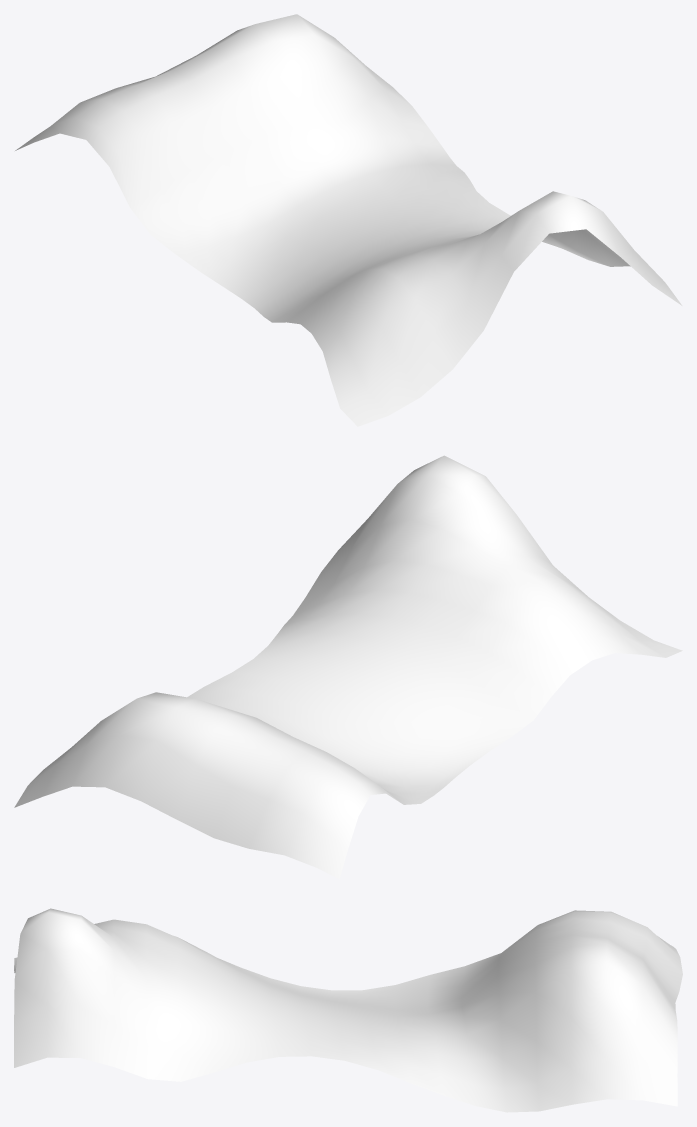
File: SM_Landscape.fbx
3 renders of one model, top to bottom at view 1: azimuth 30°, elevation 25°; view 2: azimuth 150°, elevation 25°; view 3: azimuth 270°, elevation 25°, orthographic. The views are drawn at different scales.
Parts seen in each view (by area): view 1: pPlane1; view 2: pPlane1; view 3: pPlane1.
Boxes of the visible parts, bbox=[...] form: pPlane1: bbox=[15, 14, 682, 426]; pPlane1: bbox=[14, 455, 682, 879]; pPlane1: bbox=[14, 908, 682, 1112].
Size of the model in its own units: 961 by 443 by 1682.
